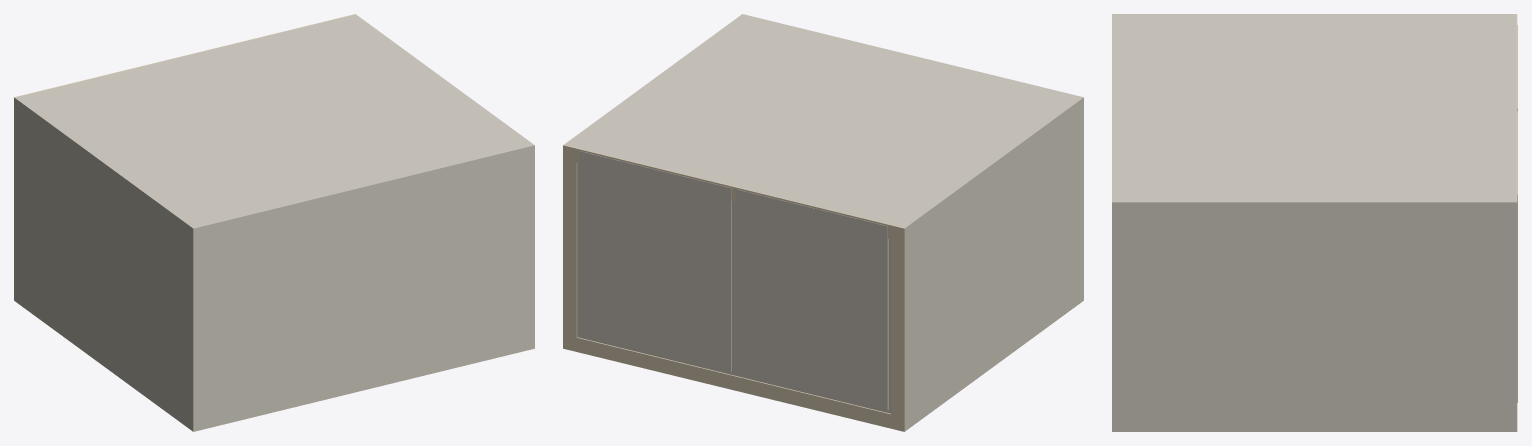
Rendered from v2-real-wardrobe-4.glb.
The picture shows the model from 3 angles, left to right: view 1: azimuth 30°, elevation 25°; view 2: azimuth 150°, elevation 25°; view 3: azimuth 270°, elevation 25°; orthographic projection. The views are drawn at different scales.
Size of the model in its own units: 450 by 256 by 410.
